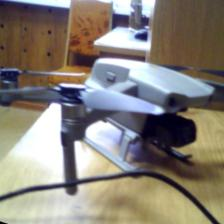drone: (3, 50, 224, 194)
